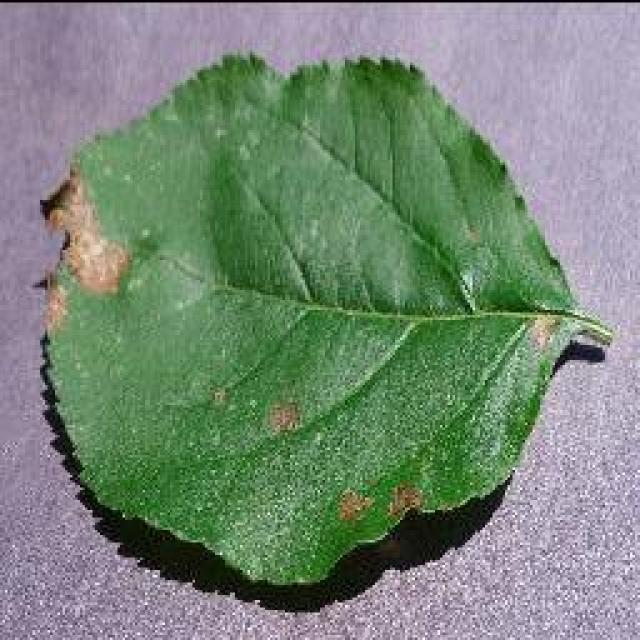apple black rot: (32, 48, 612, 608)
